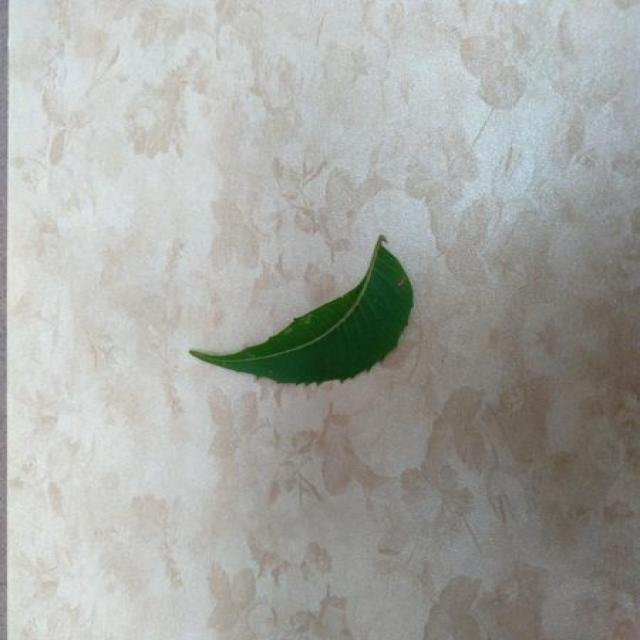neem: (190, 235, 413, 383)
